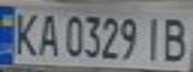0: (60, 10, 84, 58)
2: (100, 12, 121, 61)
3: (81, 11, 103, 60)
9: (118, 12, 142, 62)
A: (33, 9, 63, 57)
B: (157, 12, 193, 63)
I: (139, 12, 169, 62)
K: (9, 8, 42, 57)
